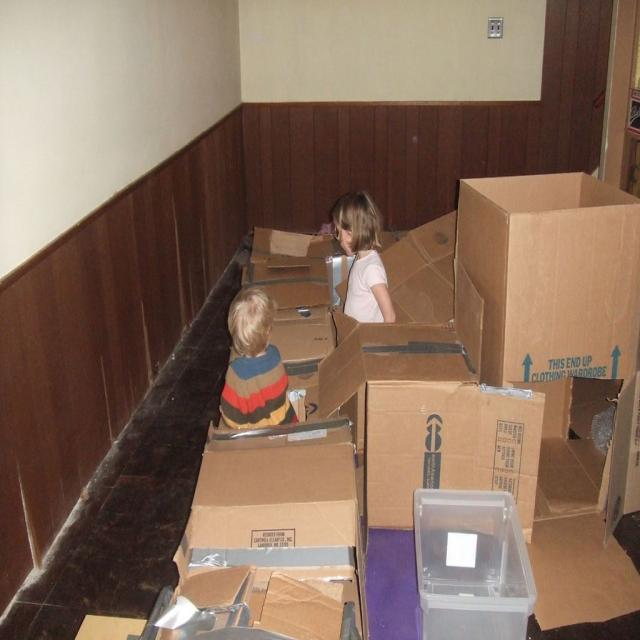Box: (453, 150, 624, 408)
